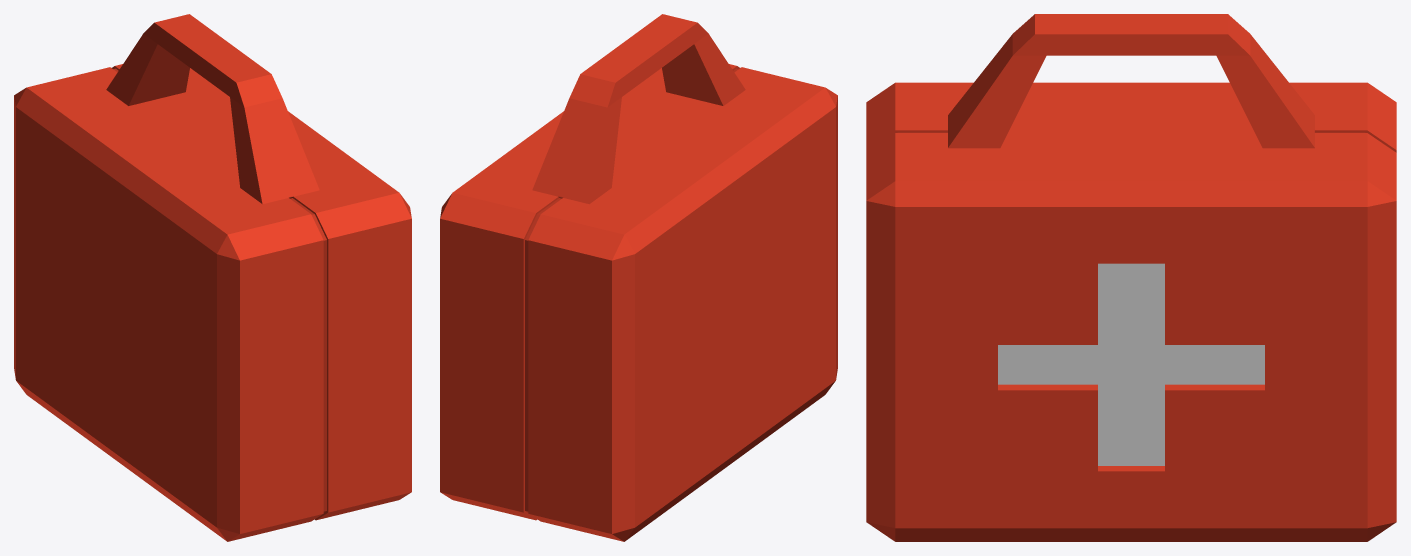
The model's file is Medkit.fbx.
The picture shows the model from 3 angles, left to right: view 1: azimuth 30°, elevation 25°; view 2: azimuth 150°, elevation 25°; view 3: azimuth 270°, elevation 25°; orthographic projection. The views are drawn at different scales.
Parts seen in each view (by area): view 1: Medkit; view 2: Medkit; view 3: Medkit.
Part boxes in pixels (<box>): Medkit: <box>14,14,411,541</box>; Medkit: <box>440,14,837,541</box>; Medkit: <box>866,14,1396,541</box>.
Bounding box in the file's own units: 54.29 × 110 × 110.
